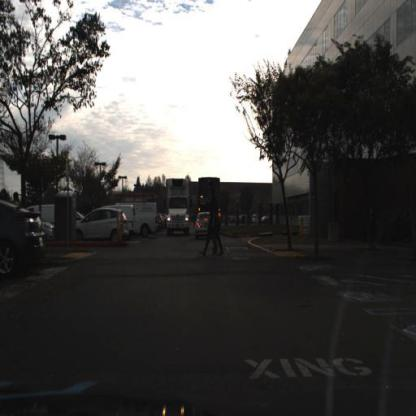car: (1, 201, 47, 284), (79, 210, 130, 241), (117, 202, 159, 235), (110, 205, 140, 235), (195, 213, 214, 237)
pedestrian: (204, 179, 222, 258), (213, 177, 223, 255)
truck: (169, 177, 193, 234), (198, 176, 220, 237)
